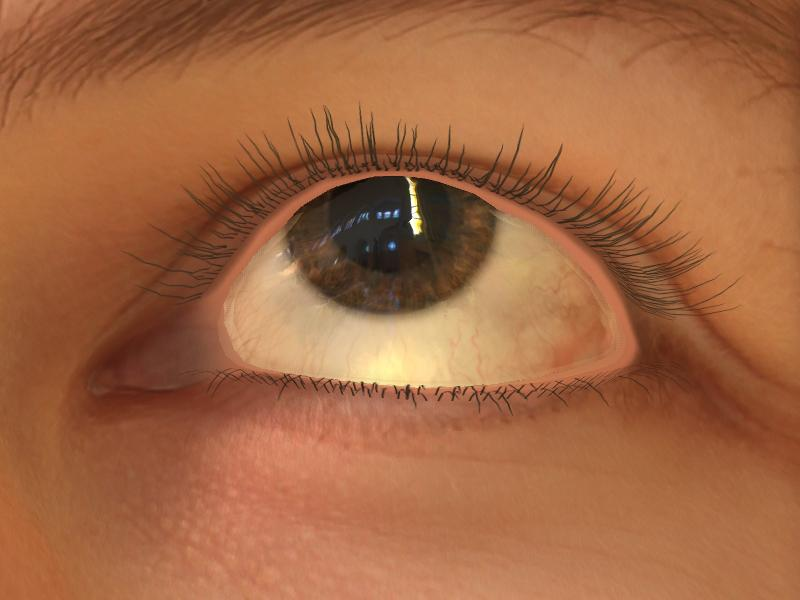eye: (287, 175, 489, 312)
